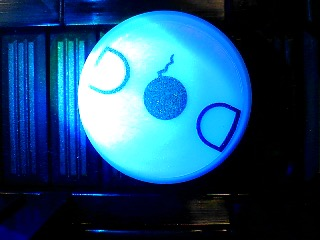CRACK: (77, 9, 253, 185)
